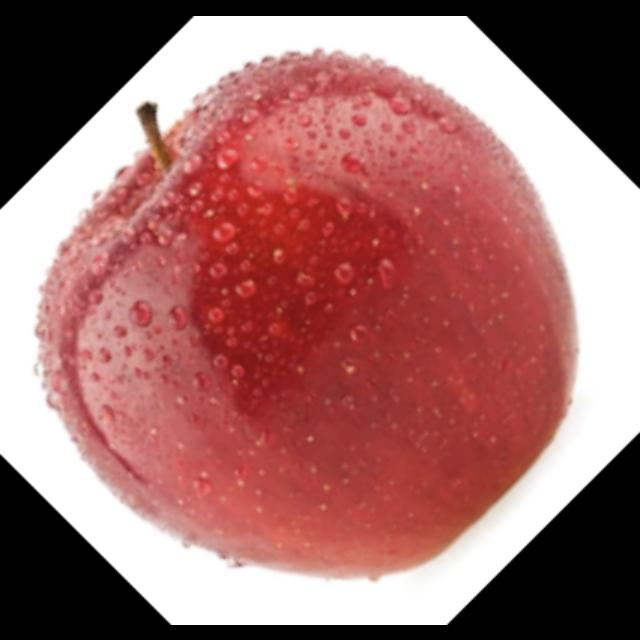Apel Segar: (27, 38, 590, 592)
